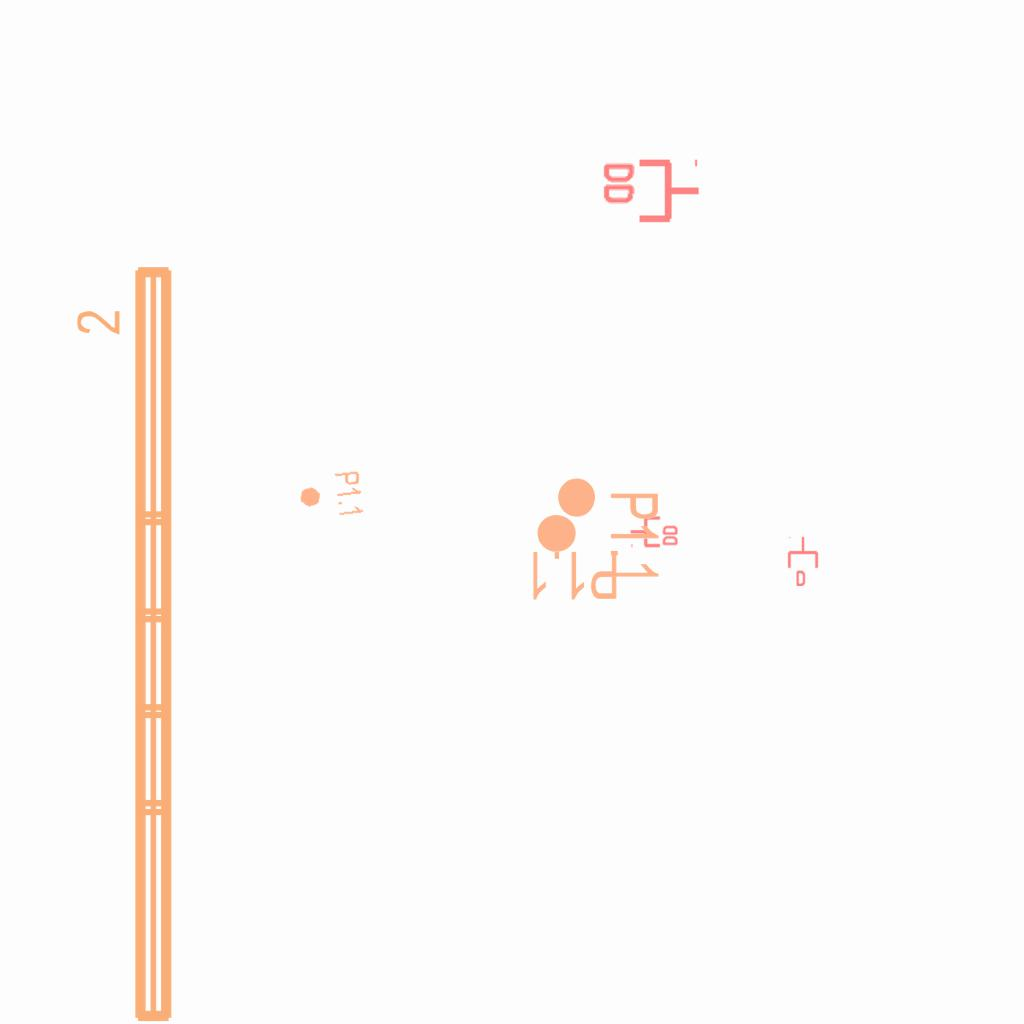Ambulanz_Pendelleuchte_LED: (72, 258, 184, 1024)
Datenanschluss_einfach: (786, 536, 820, 586)
Datenanschluss_zweifach: (599, 158, 702, 227), (629, 514, 680, 548)
Downlight_LED_Einbauleuchten_Flur: (527, 475, 620, 603), (534, 490, 662, 583), (296, 469, 366, 523)
